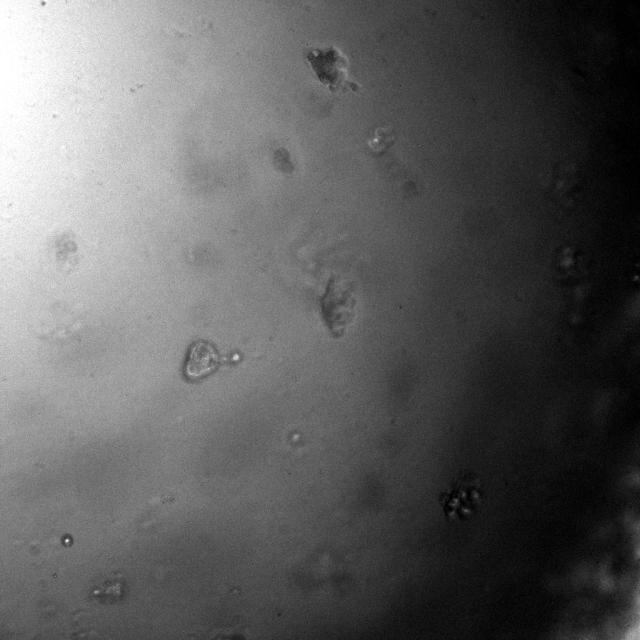organoid: (183, 339, 243, 381), (306, 46, 359, 92), (321, 277, 356, 337), (441, 473, 481, 519), (92, 577, 125, 604), (368, 127, 394, 155), (272, 147, 294, 173)
